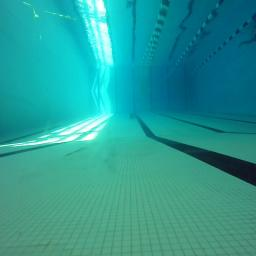Full: (130, 113, 136, 119)
